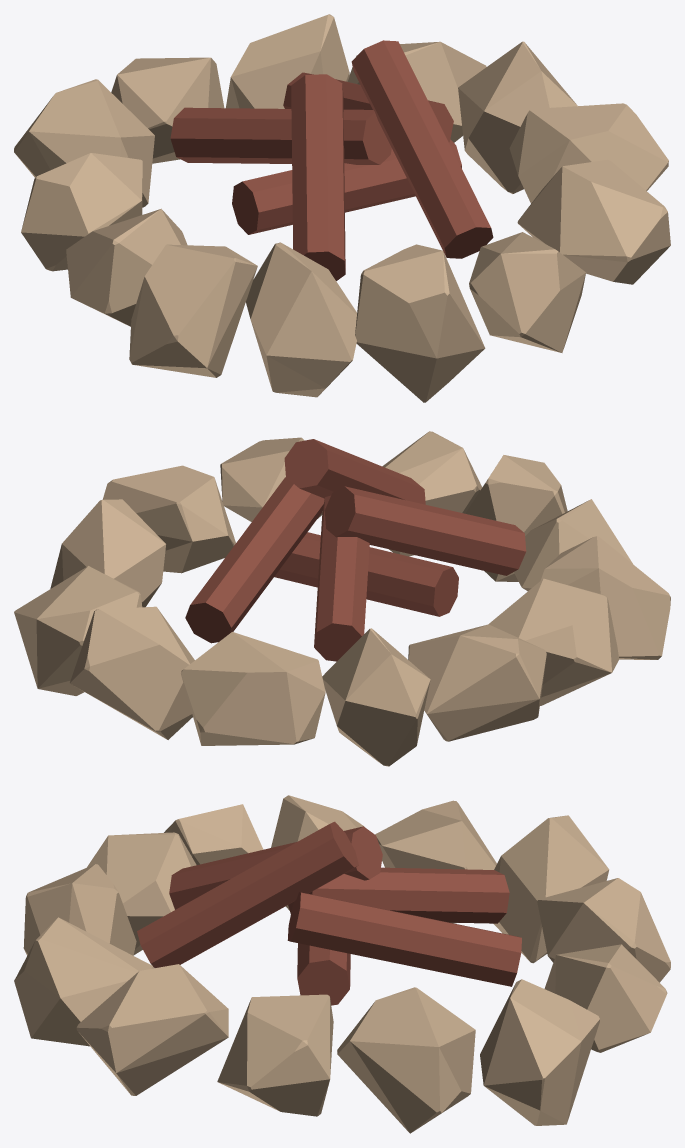
The model's file is campfire_01.fbx.
The picture shows the model from 3 angles, top to bottom: view 1: azimuth 30°, elevation 25°; view 2: azimuth 150°, elevation 25°; view 3: azimuth 270°, elevation 25°; orthographic projection. The views are drawn at different scales.
Visible parts, largest first — view 1: campfire_01; view 2: campfire_01; view 3: campfire_01.
Part boxes in pixels (x1,y1,x2,y2): campfire_01: (14, 14, 670, 402); campfire_01: (14, 431, 670, 766); campfire_01: (14, 795, 670, 1133).
Bounding box in the file's own units: 98.92 × 39.57 × 103.
